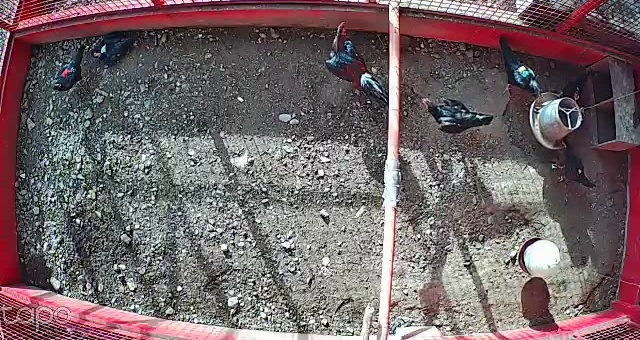Chicken: (50, 40, 93, 97), (91, 35, 142, 67), (418, 94, 420, 96)
Rooster: (316, 17, 396, 108)
Saddle_Color_Red: (62, 68, 69, 77)
Saddle_Color_White: (101, 45, 108, 52)
Saddle_Color_YellowGreen: (516, 65, 529, 77)
